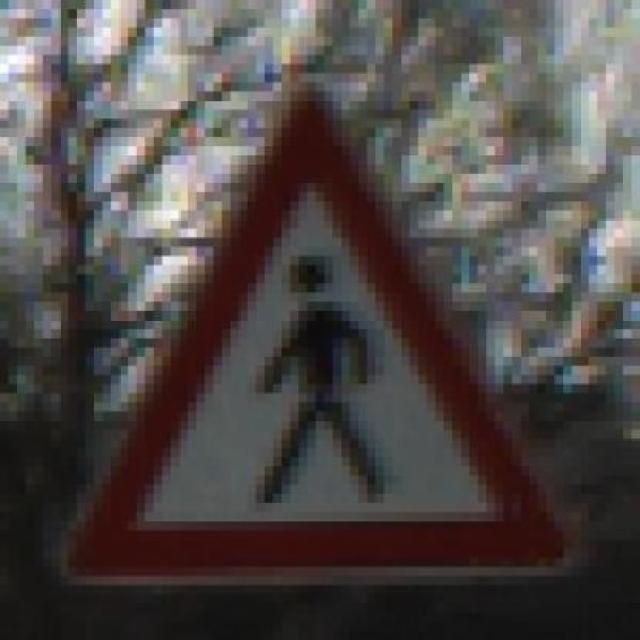Pedestrian Crossing: (51, 73, 589, 585)
